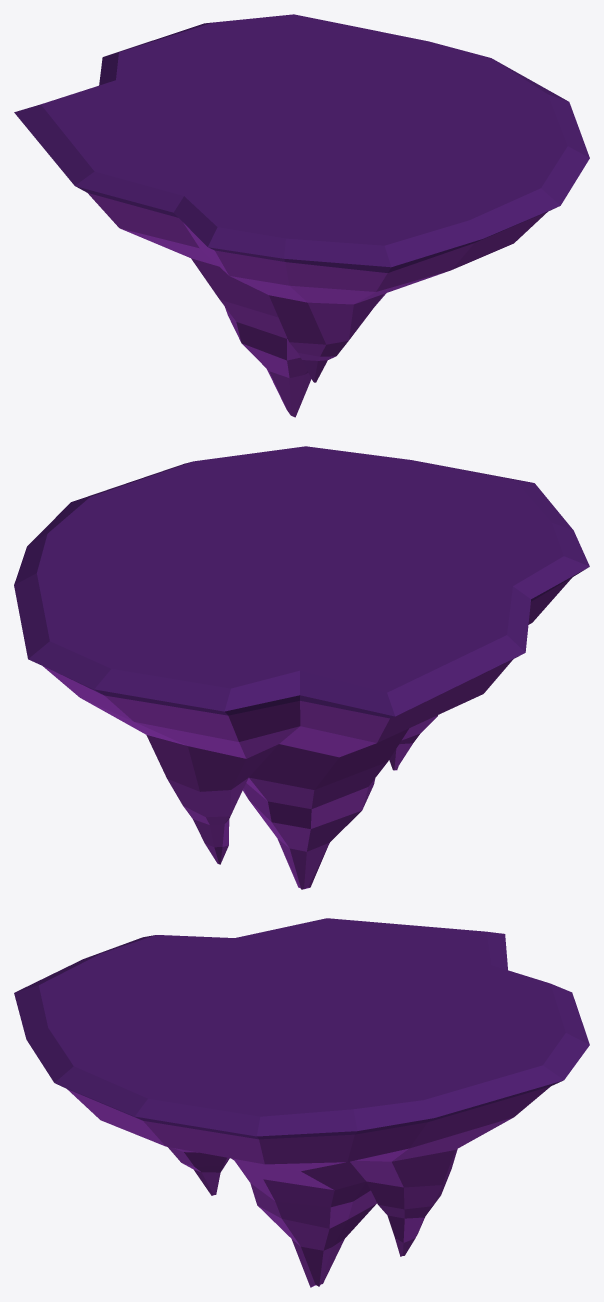
File: FloatingIsland3.fbx
The picture shows the model from 3 angles, top to bottom: view 1: azimuth 30°, elevation 25°; view 2: azimuth 150°, elevation 25°; view 3: azimuth 270°, elevation 25°; orthographic projection. The views are drawn at different scales.
Visible parts, largest first — view 1: Cube.013; view 2: Cube.013; view 3: Cube.013.
Part boxes in pixels (x1,y1,x2,y2): Cube.013: [14, 14, 589, 417]; Cube.013: [14, 446, 589, 889]; Cube.013: [14, 918, 589, 1287].
Bounding box in the file's own units: 1809 × 1098 × 2034.
